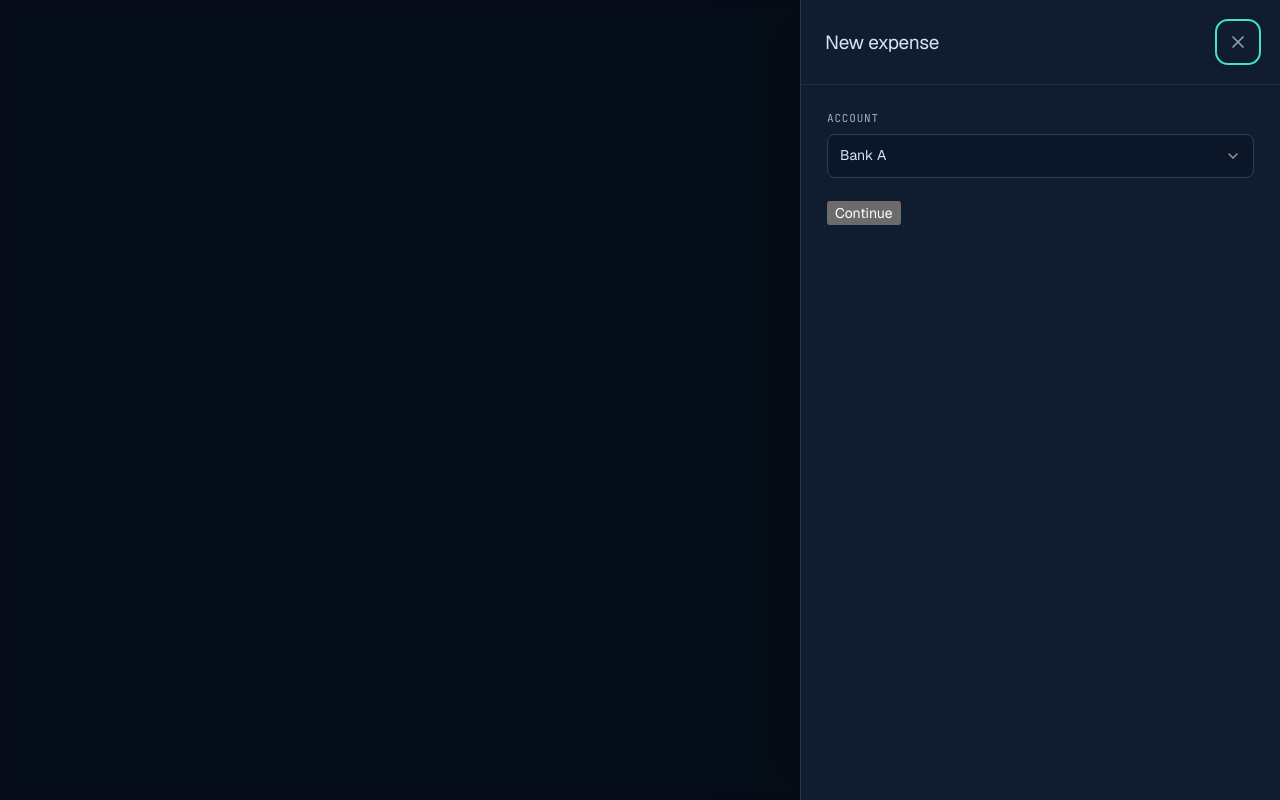
Test: select popup inside Drawer closes without closing the dialog and returns focus
This screenshot has width=1280, height=800.
Press ArrowDown in the dropdown named "Account", box [827,134,1254,178]
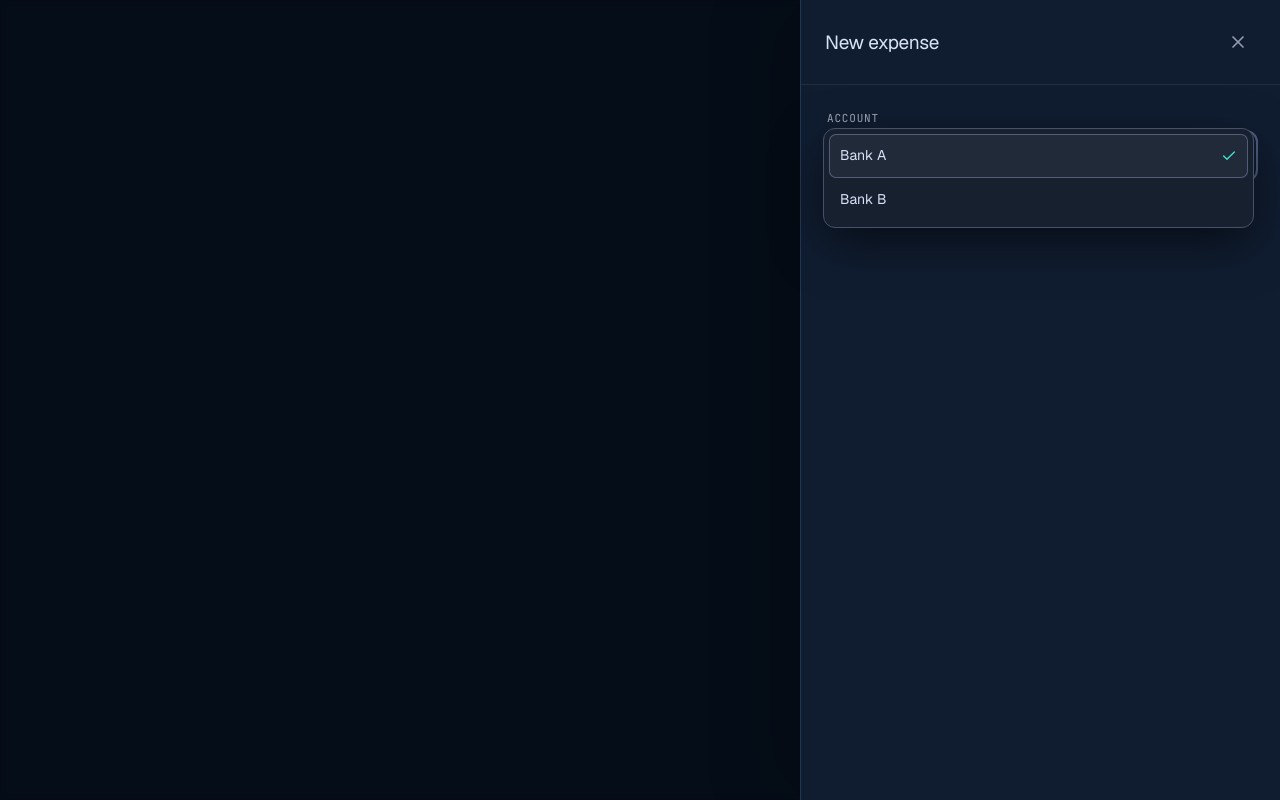
Check: the list is shown, box [823,128,1254,228]
Click the option "Bank B" at point(863, 199), box [840,190,886,208]
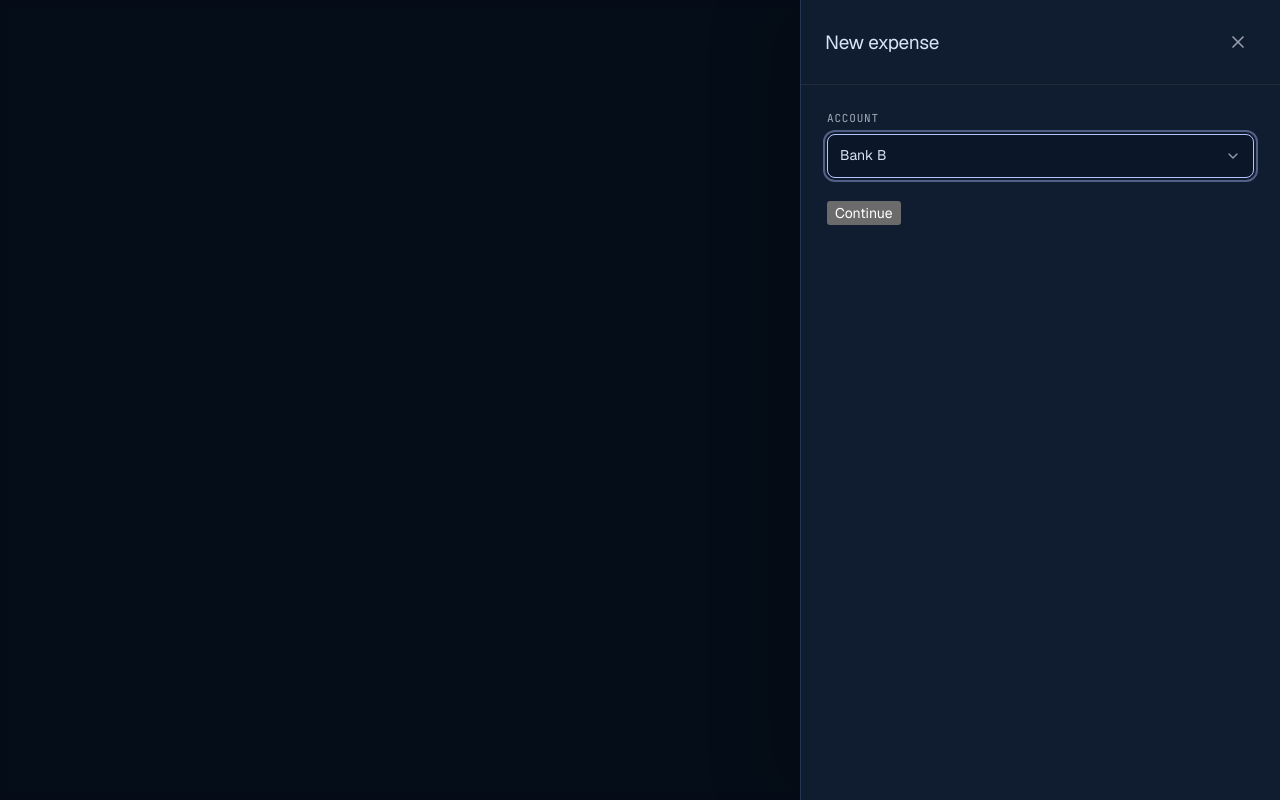
Check: the dialog "New expense" is shown, box [800,0,1279,799]
Check: the list is gone
Press ArrowDown in the dropdown named "Account", box [827,134,1254,178]
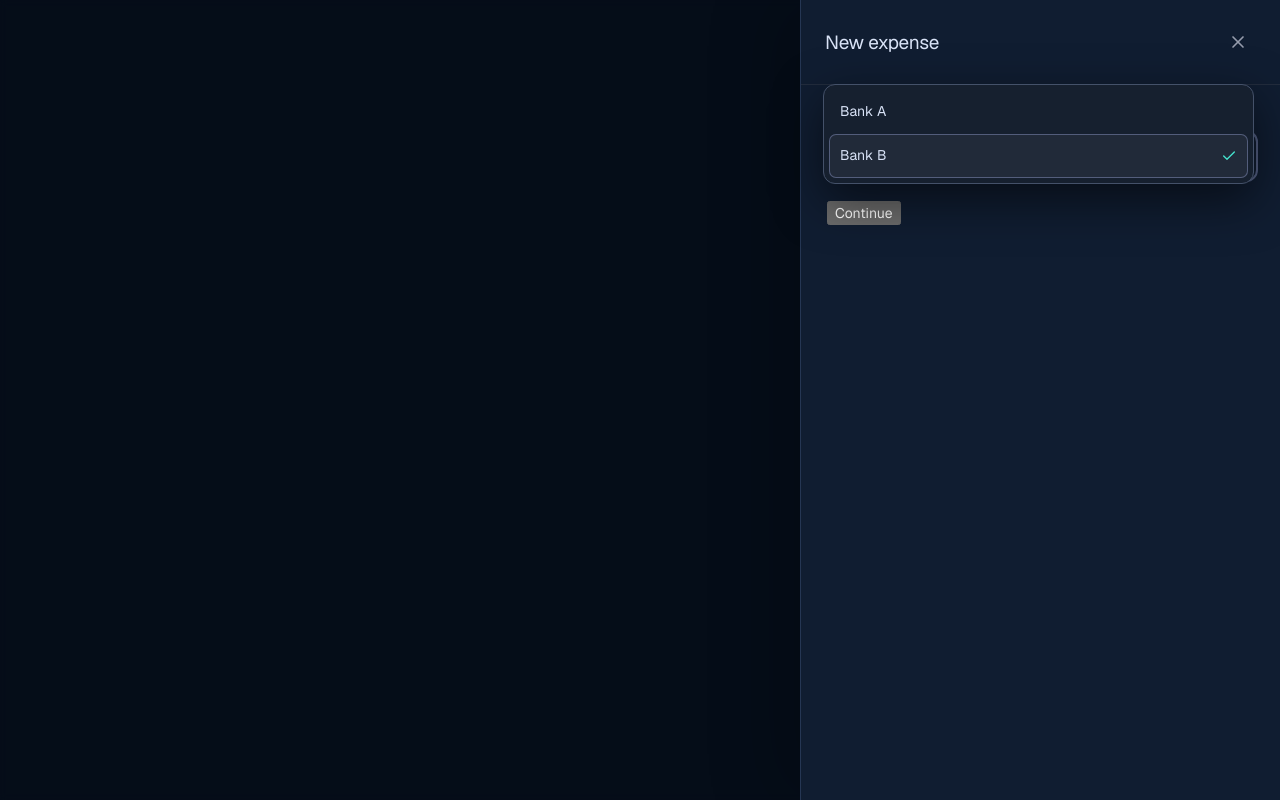
Check: the list is shown, box [823,84,1254,184]
Press Escape in the option "Bank B", box [829,134,1248,178]
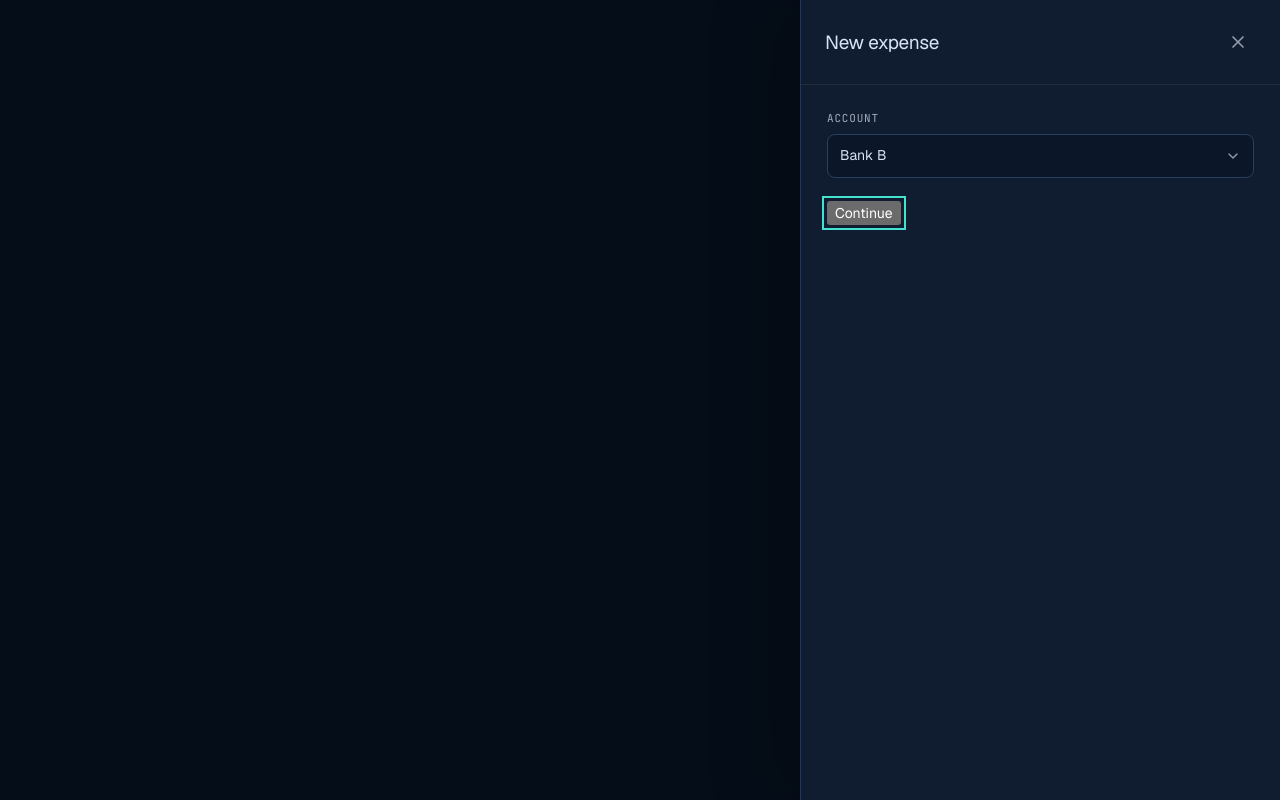
Check: the button "Continue" is shown, box [827,201,901,225]
Check: the list is gone
